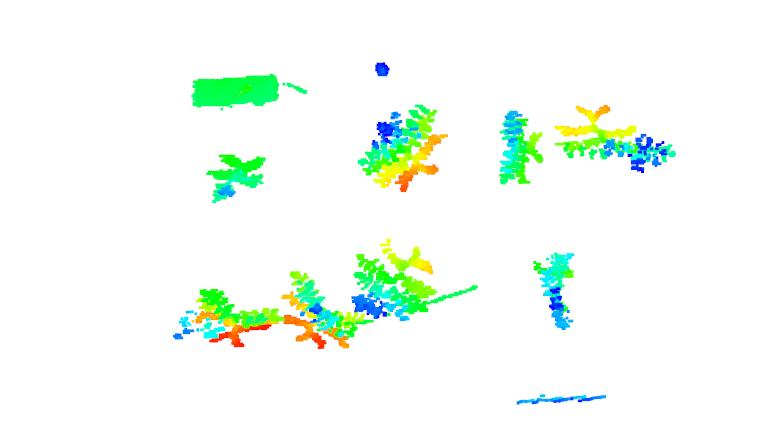chickpea: (559, 103, 676, 176), (358, 104, 449, 193), (347, 236, 435, 324), (176, 286, 279, 351), (280, 269, 357, 352), (493, 106, 542, 188), (532, 248, 580, 331), (203, 151, 268, 204)
